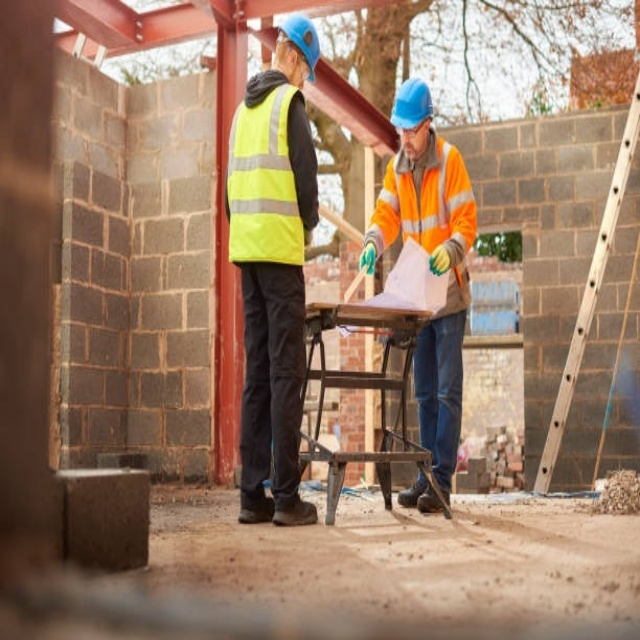Gafas: (395, 118, 430, 138), (298, 52, 311, 82)
Guantes: (429, 245, 451, 276), (359, 242, 376, 275)
Sin_mascara: (404, 145, 417, 157)
